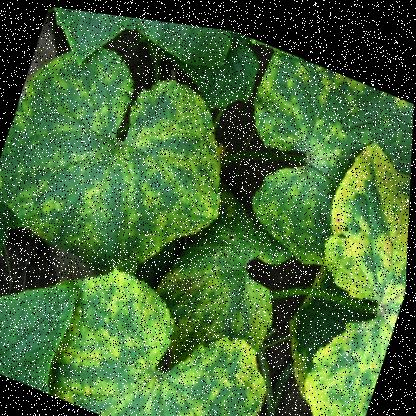DownyMildew: (7, 38, 219, 267), (273, 128, 412, 415), (50, 268, 284, 415)
